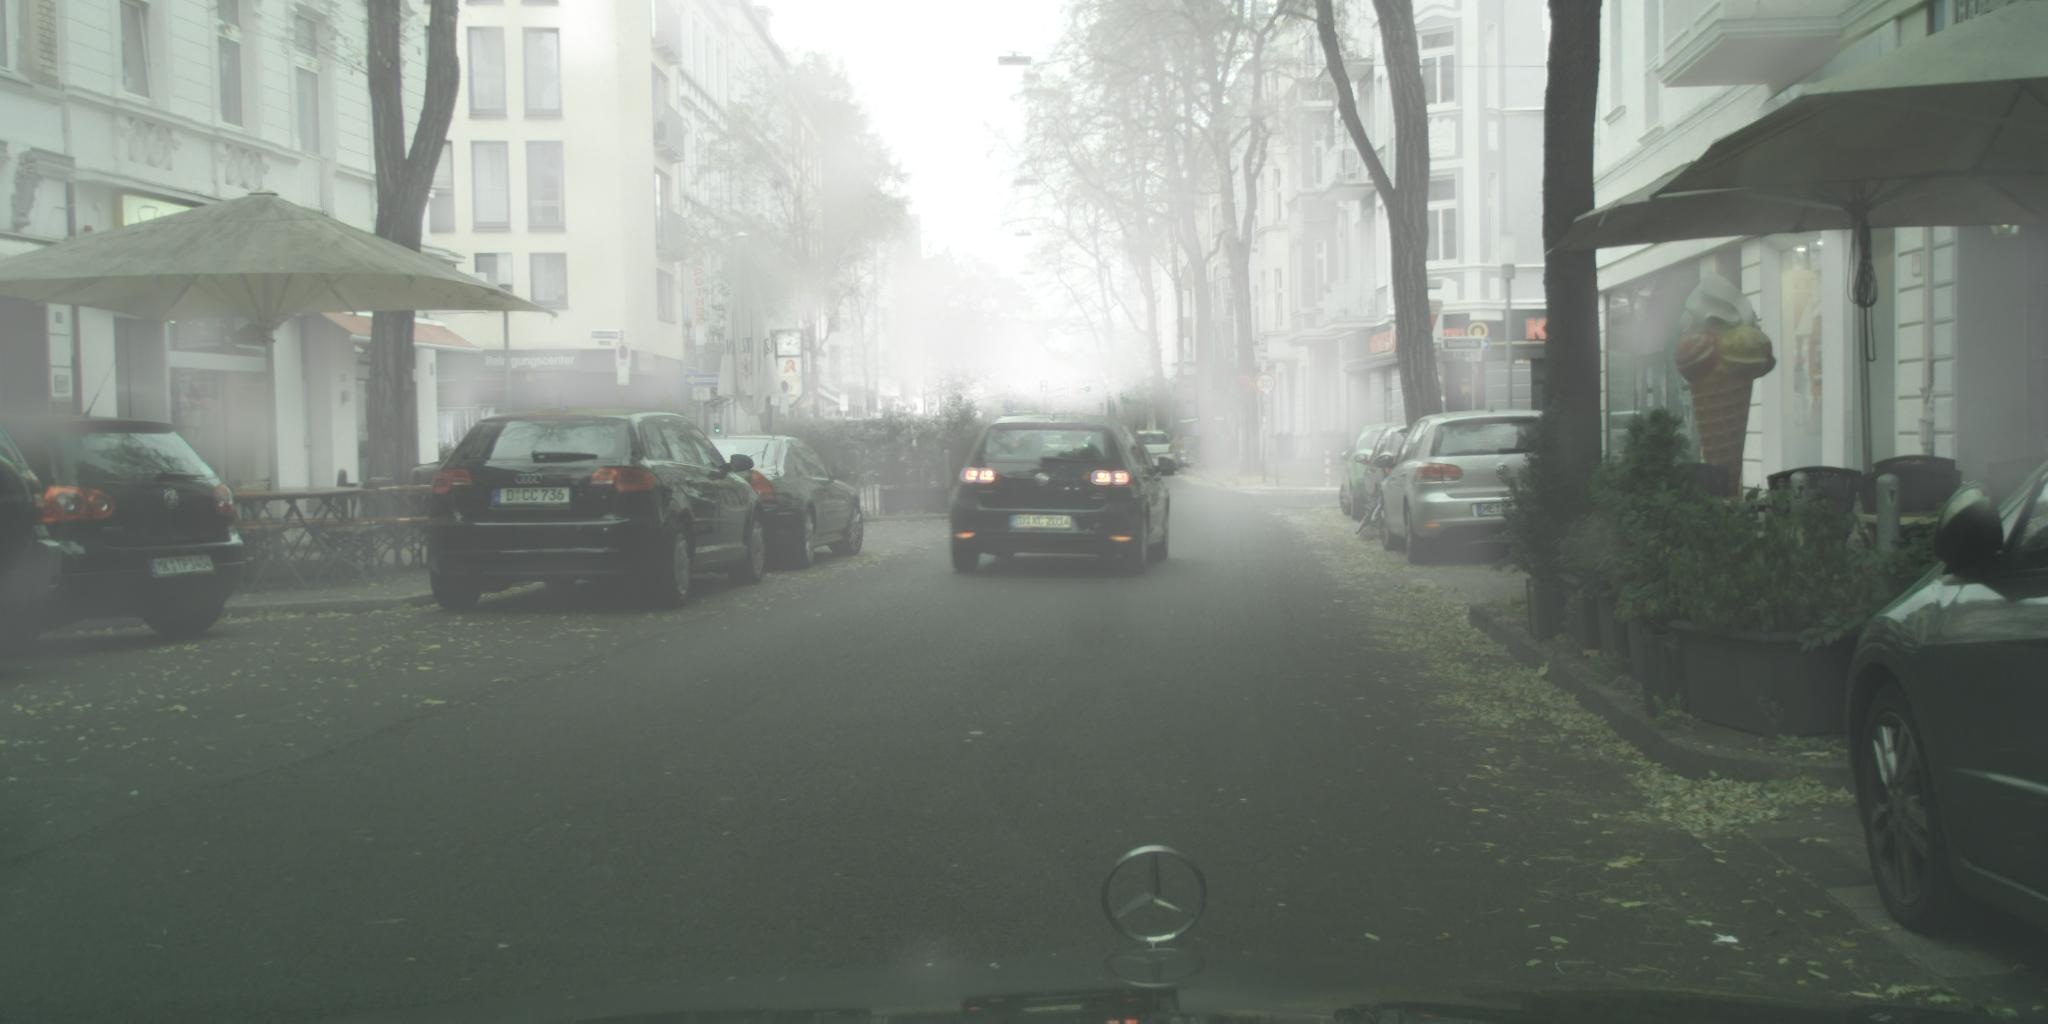bicycle: (1183, 439, 1232, 472)
car: (1844, 453, 2048, 942), (427, 408, 771, 613), (1, 414, 248, 660), (950, 411, 1172, 575), (1374, 409, 1561, 566), (686, 434, 866, 569), (1339, 423, 1413, 522), (1354, 421, 1418, 526), (1170, 415, 1236, 468), (1128, 431, 1181, 477)
